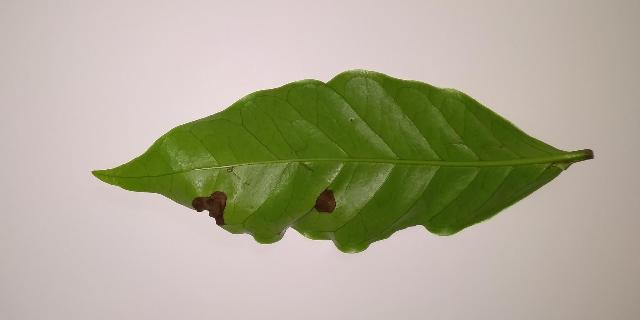rust: (189, 192, 226, 227), (314, 190, 336, 212)
